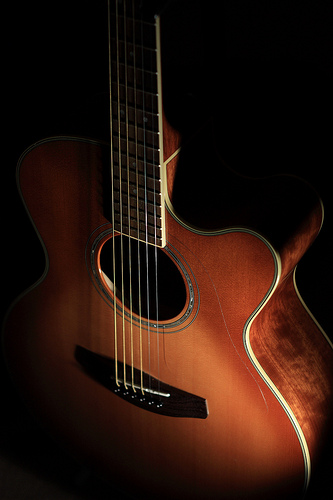guitar: (21, 7, 333, 493)
